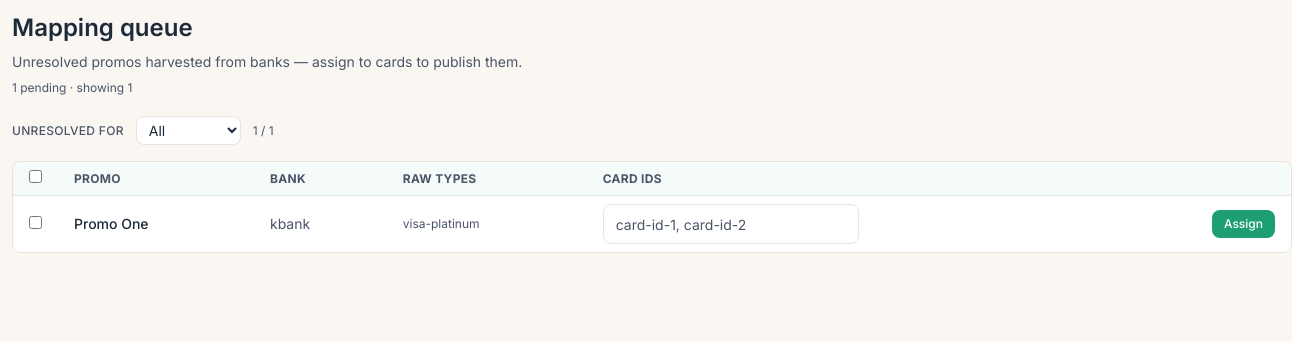
Test: AdminMappingQueuePage › toggling a single row checkbox opens the bulk bar for 1 promo
The image size is (1292, 342).
Click the checkbox with test id "mapping-queue-row-checkbox-p-1" at (36, 222), box x1=29 y1=216 x2=42 y2=229
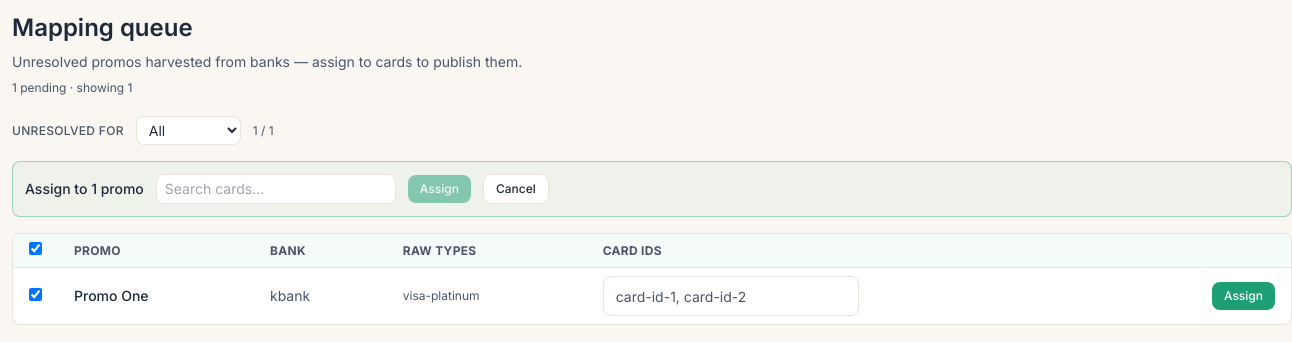
Result: the element with test id "mapping-queue-bulk-bar" shows "Assign to 1 promo" at x1=25 y1=180 x2=144 y2=197
